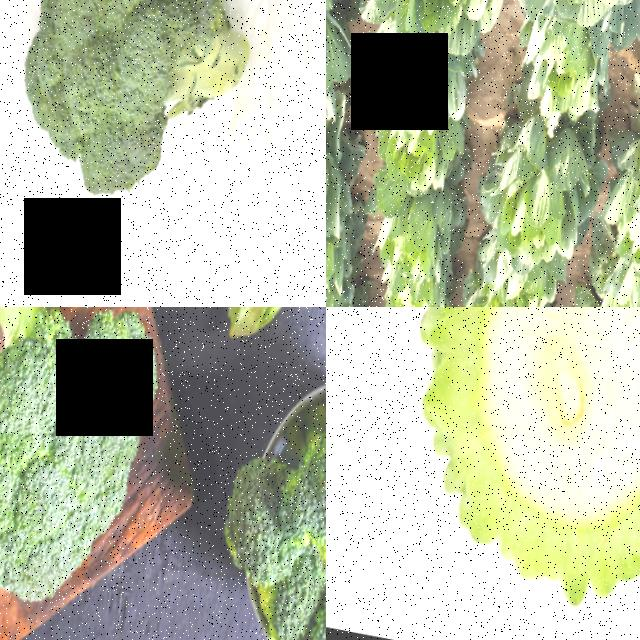bitter gourd: (326, 307, 640, 640)
broccoli: (0, 0, 289, 243), (0, 307, 183, 602), (256, 388, 326, 563), (179, 307, 326, 371), (244, 549, 326, 640)
cabbage: (468, 118, 587, 254), (359, 37, 465, 148), (346, 205, 461, 299), (362, 0, 525, 50), (583, 151, 640, 281)
